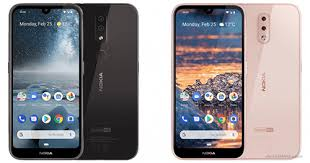nokia: (169, 3, 247, 163), (8, 1, 86, 159), (243, 2, 304, 162)
